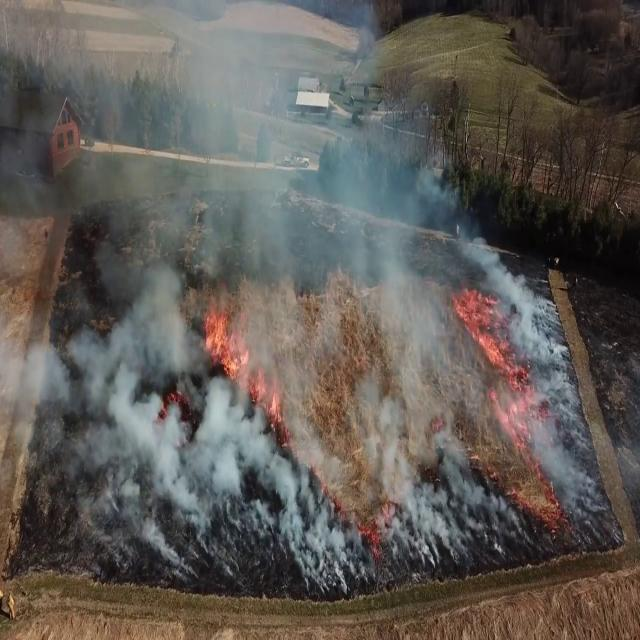Fire: (196, 282, 248, 392), (456, 266, 504, 362)
Smoke: (0, 4, 567, 576)
